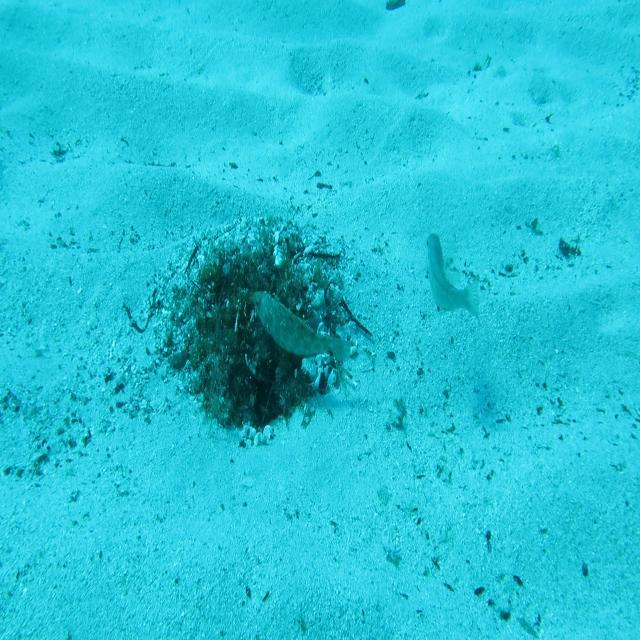FAN: (252, 289, 354, 370)
core_nest: (228, 269, 280, 308)
female: (426, 231, 482, 330)
nest: (154, 210, 366, 450)
vegetation: (386, 0, 411, 13)
